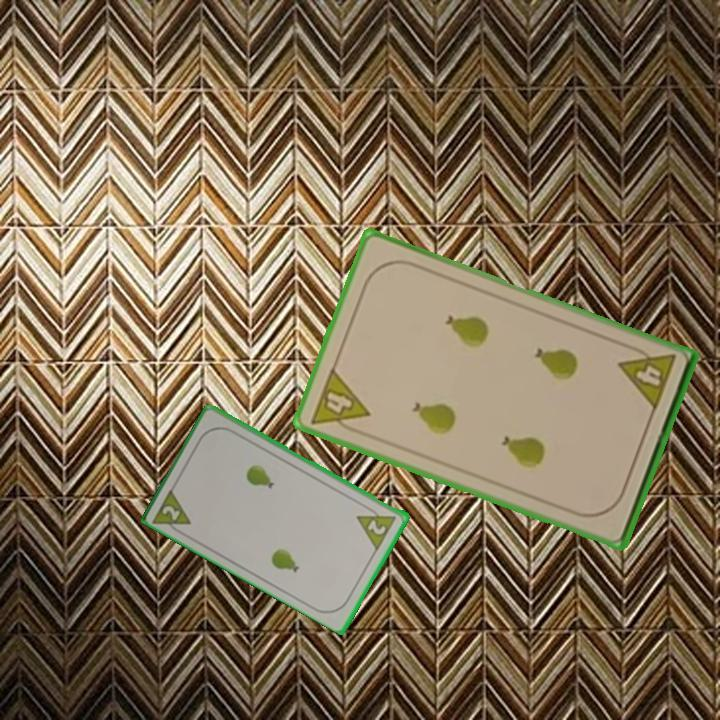2p: (150, 484, 195, 539), (353, 501, 400, 552)
4p: (306, 364, 373, 439), (615, 341, 679, 414)
